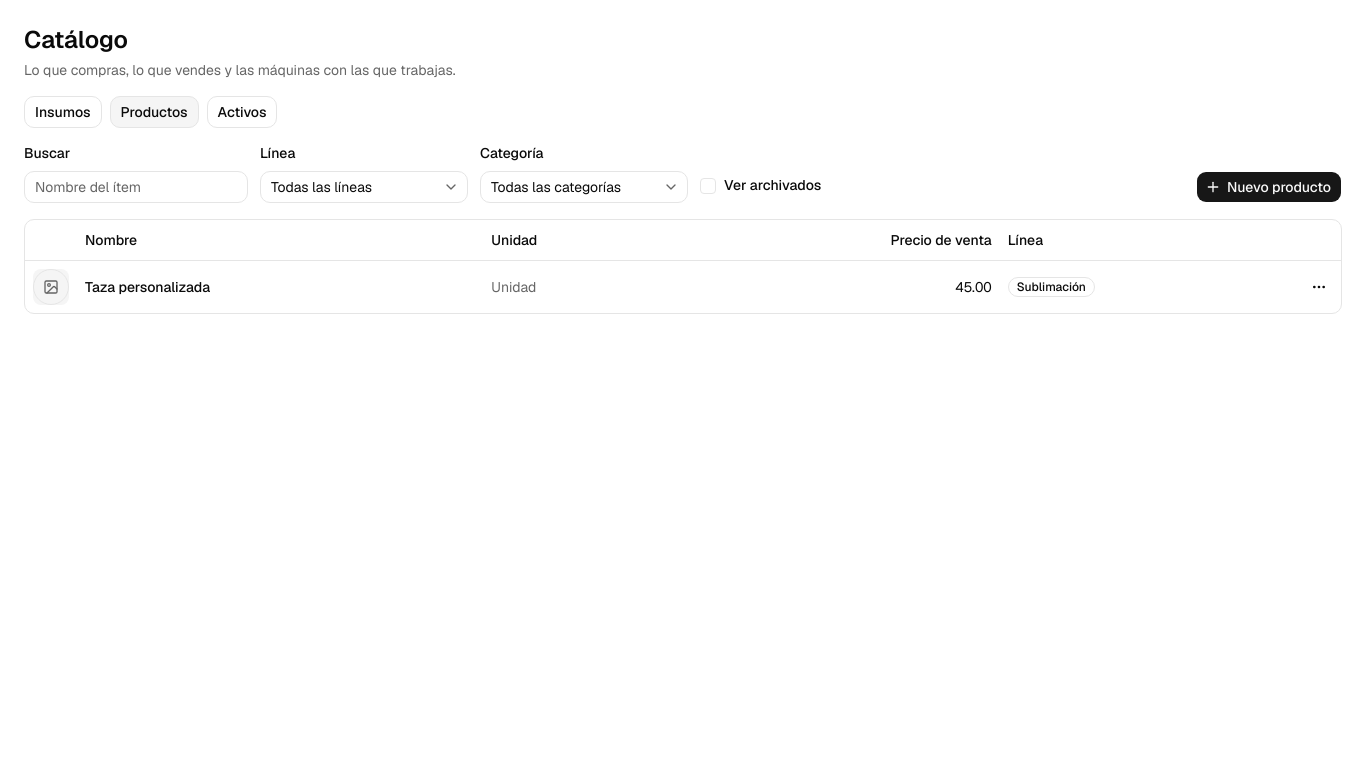
CatalogScreen · lo que muestra cada pestaña › «Editar» en un producto abre «Editar producto» con sus datos
Click the button named "Acciones": click(1319, 287) [1305,273,1333,301]
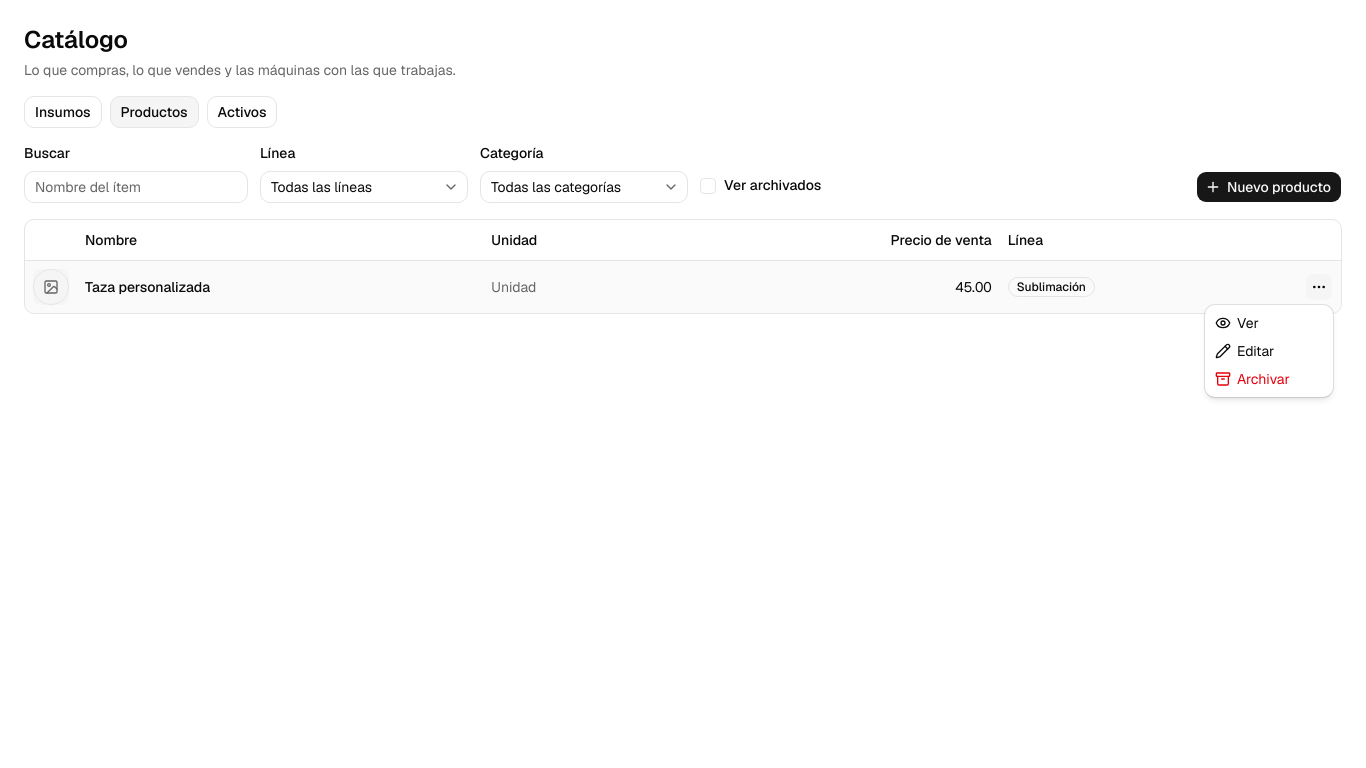
Click the menu item "Editar": click(1245, 351) [1215,342,1274,360]
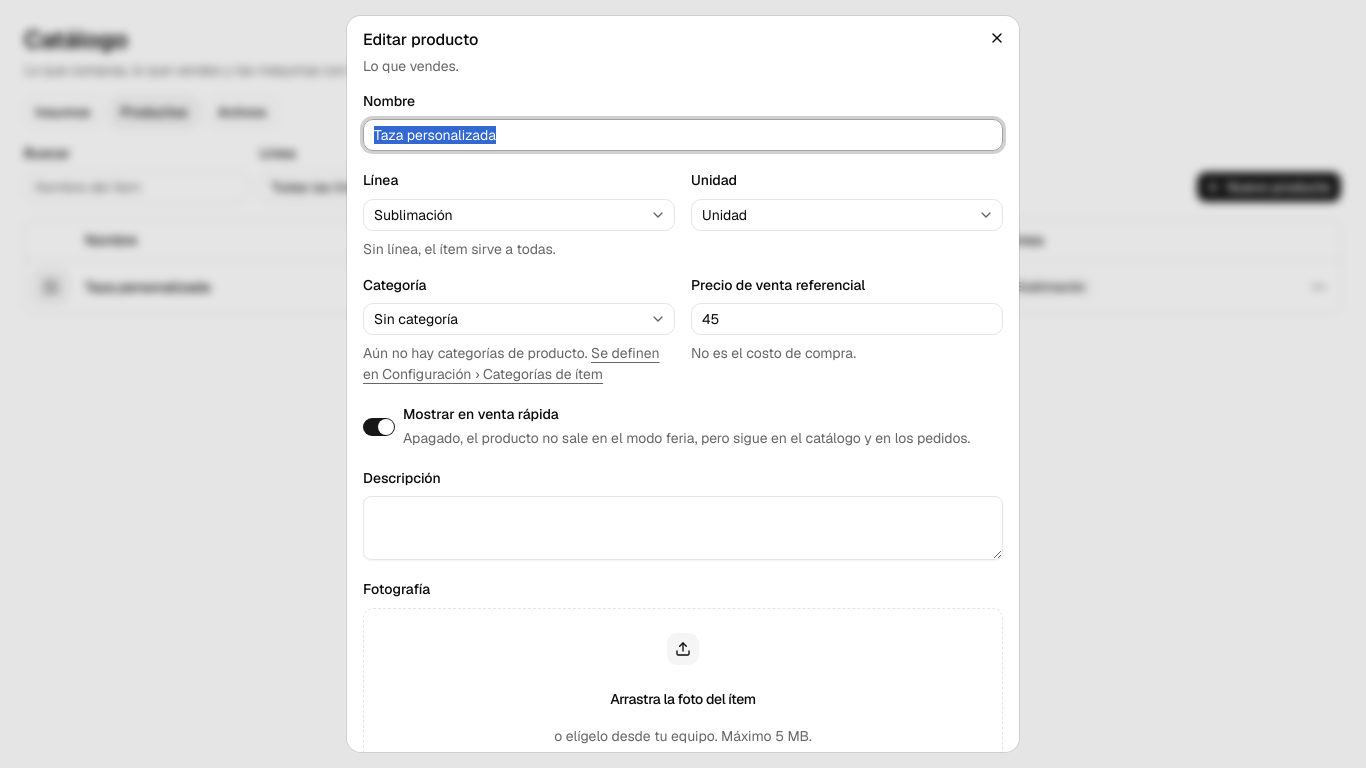
Expected: the heading "Editar producto" is shown, [363,29,478,50]
Expected: the field labelled "Nombre" holds "Taza personalizada", [363,119,1003,151]
Expected: the field labelled "Precio de venta referencial" holds "45", [691,303,1003,335]
